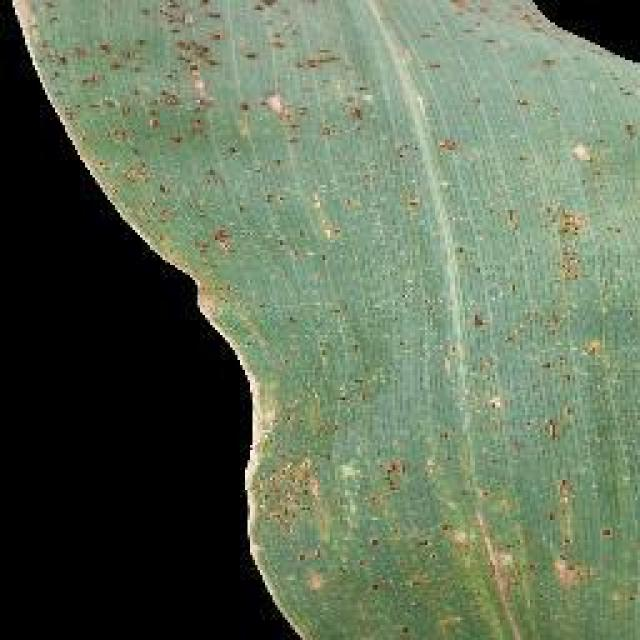Corn Common Rust: (153, 0, 551, 543)
